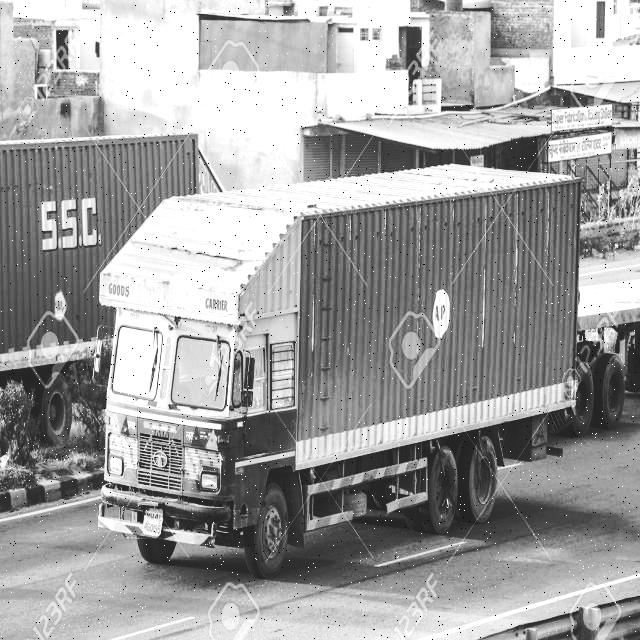HCV: (86, 147, 600, 589)
